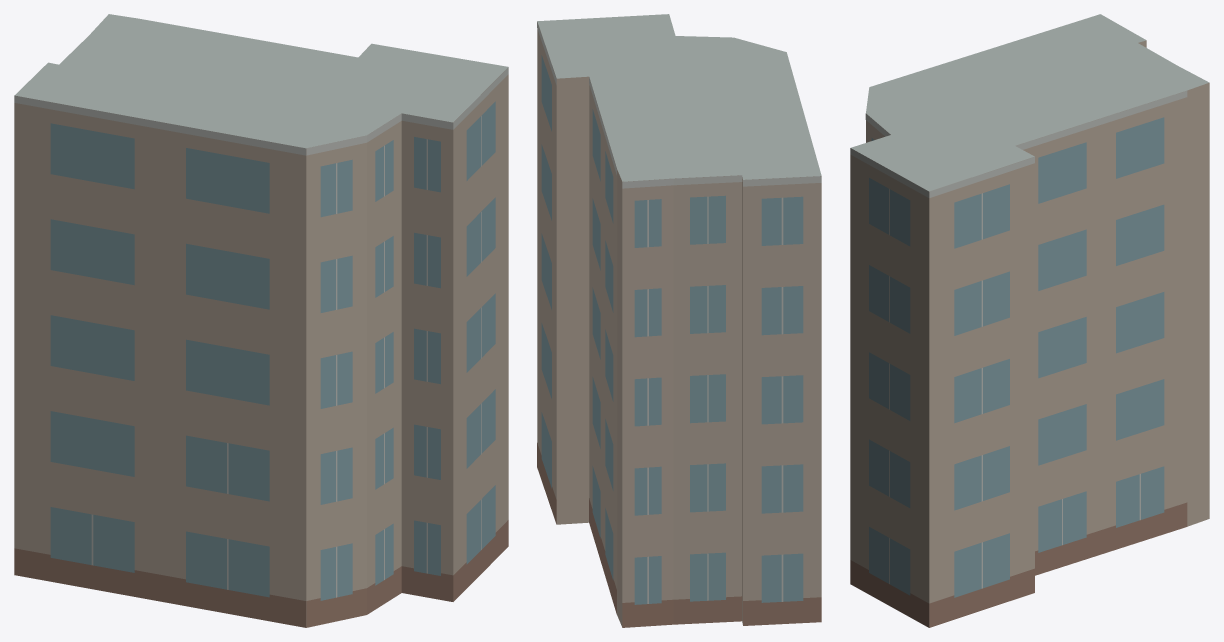
File: survey-upis-32731361.glb
3 renders of one model, left to right at view 1: azimuth 30°, elevation 25°; view 2: azimuth 150°, elevation 25°; view 3: azimuth 270°, elevation 25°, orthographic. The views are drawn at different scales.
Visible parts, largest first — view 1: survey-upis-32731361.tmp; view 2: survey-upis-32731361.tmp; view 3: survey-upis-32731361.tmp.
Boxes of the visible parts, <box> form: survey-upis-32731361.tmp: <box>14,14,508,627</box>; survey-upis-32731361.tmp: <box>537,14,821,627</box>; survey-upis-32731361.tmp: <box>850,14,1209,627</box>.
Size of the model in its own units: 13.98 by 16 by 11.95.
